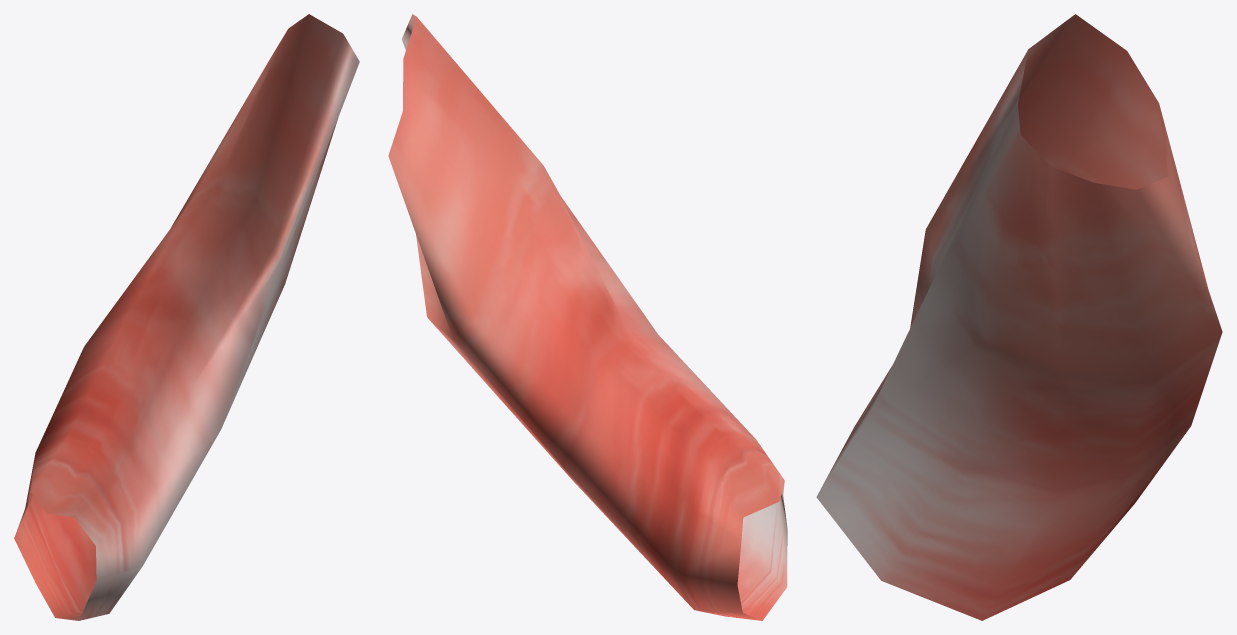
The model's file is Pterygoid_Lateral_Muscle_Right.obj.
The picture shows the model from 3 angles, left to right: view 1: azimuth 30°, elevation 25°; view 2: azimuth 150°, elevation 25°; view 3: azimuth 270°, elevation 25°; orthographic projection. The views are drawn at different scales.
Visible parts, largest first — view 1: Masseter_Deep_Muscle_Left:Masseter_Deep_Muscle_Left1_Mesh Masset; view 2: Masseter_Deep_Muscle_Left:Masseter_Deep_Muscle_Left1_Mesh Masset; view 3: Masseter_Deep_Muscle_Left:Masseter_Deep_Muscle_Left1_Mesh Masset.
Part boxes in pixels (x1,y1,x2,y2): Masseter_Deep_Muscle_Left:Masseter_Deep_Muscle_Left1_Mesh Masset: (14,14,359,620); Masseter_Deep_Muscle_Left:Masseter_Deep_Muscle_Left1_Mesh Masset: (388,14,787,620); Masseter_Deep_Muscle_Left:Masseter_Deep_Muscle_Left1_Mesh Masset: (816,14,1222,620).
Bounding box in the file's own units: 0.5006 × 0.7418 × 0.341.
